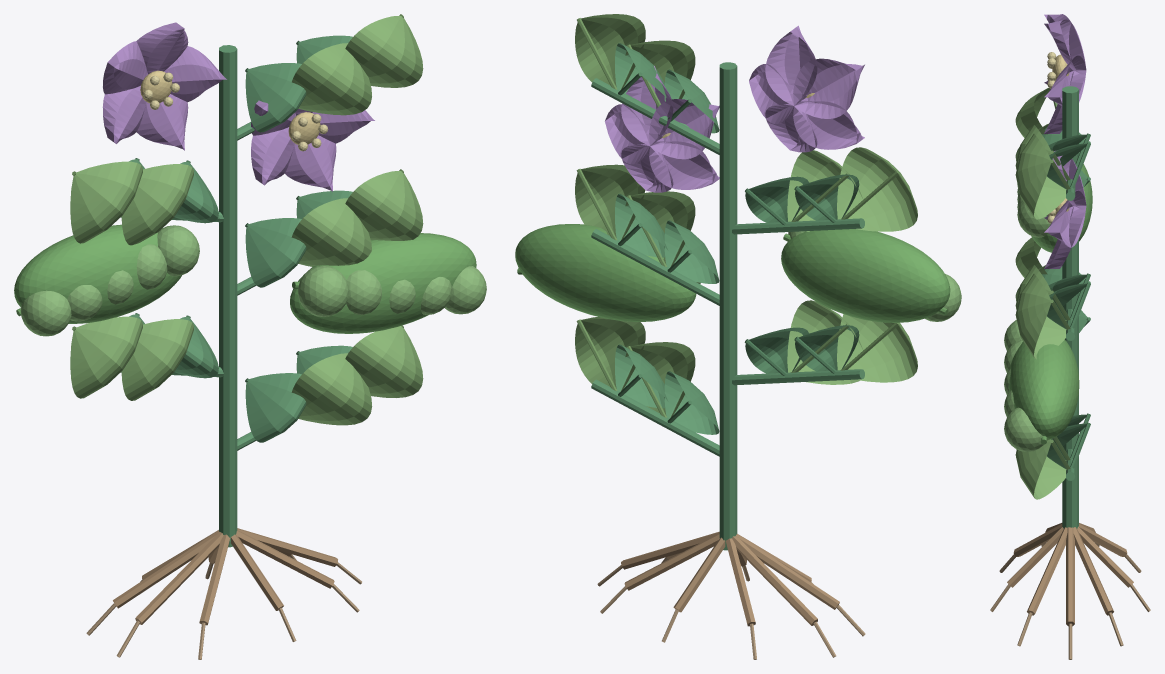
Rendered from 51_Burchoqdoshlar.glb.
The picture shows the model from 3 angles, left to right: view 1: azimuth 30°, elevation 25°; view 2: azimuth 150°, elevation 25°; view 3: azimuth 270°, elevation 25°; orthographic projection. The views are drawn at different scales.
Visible parts, largest first — view 1: leaf, fruit, flower, stem, root; view 2: leaf, fruit, stem, flower, root; view 3: leaf, fruit, root, stem, flower.
Part boxes in pixels (x1=…): leaf: x1=70, y1=15, x2=423, y2=442; fruit: x1=14, y1=224, x2=486, y2=336; flower: x1=102, y1=22, x2=374, y2=191; stem: x1=72, y1=14, x2=403, y2=547; root: x1=86, y1=528, x2=361, y2=659; leaf: x1=575, y1=14, x2=917, y2=434; fruit: x1=515, y1=224, x2=961, y2=322; stem: x1=576, y1=18, x2=899, y2=550; flower: x1=605, y1=25, x2=864, y2=192; root: x1=597, y1=531, x2=865, y2=659; leaf: x1=1015, y1=88, x2=1087, y2=499; fruit: x1=1004, y1=164, x2=1092, y2=451; root: x1=990, y1=523, x2=1150, y2=659; stem: x1=1050, y1=86, x2=1090, y2=528; flower: x1=1044, y1=14, x2=1086, y2=268.
Bounding box in the file's own units: 1.77 × 2.29 × 0.603.
